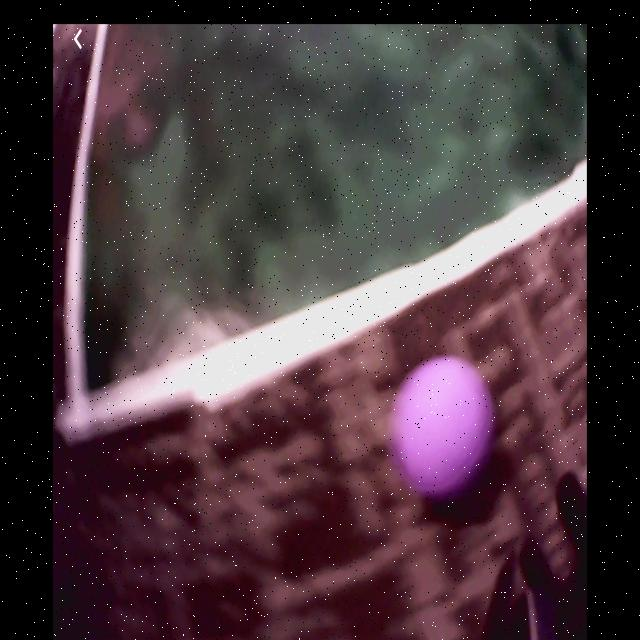ball: (393, 357, 496, 496)
